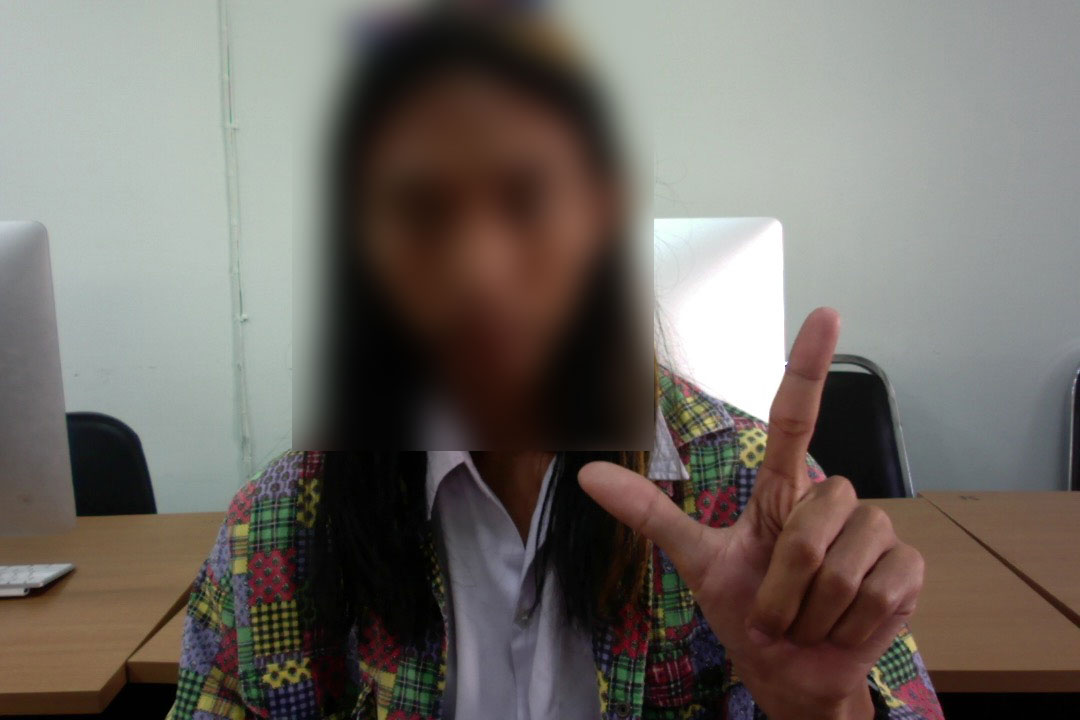lor: (553, 279, 946, 710)
